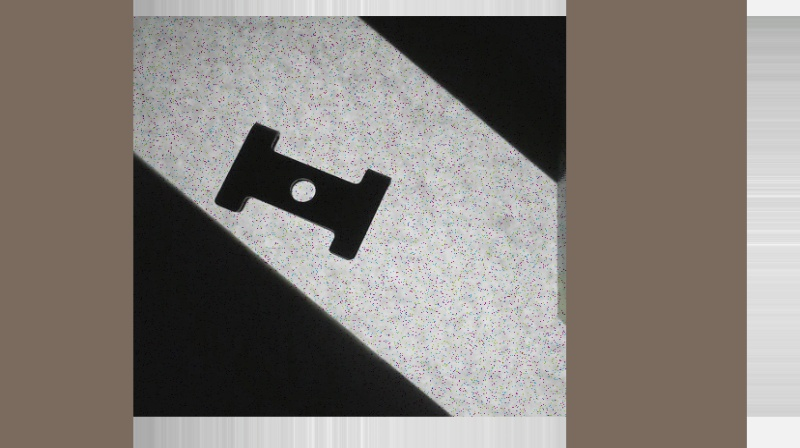O002: (209, 119, 396, 262)
